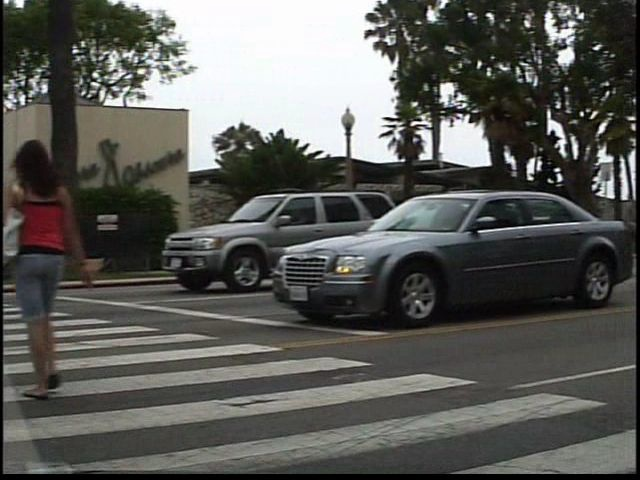person: (25, 138, 110, 406)
